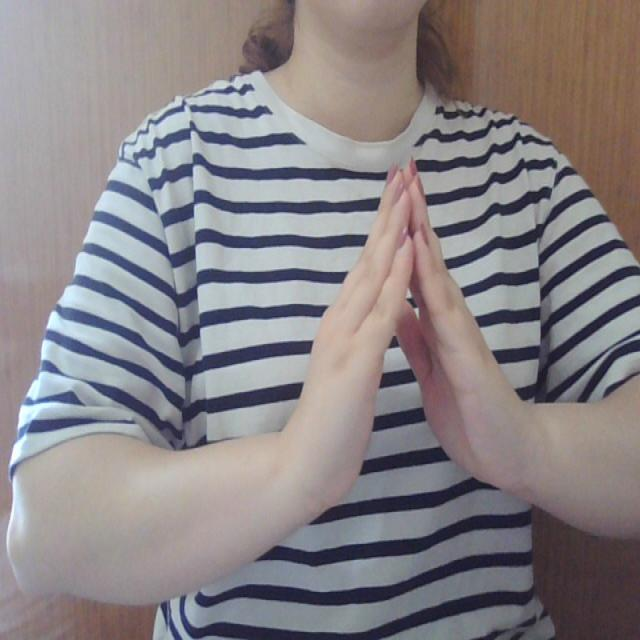Ev: (285, 151, 524, 507)
